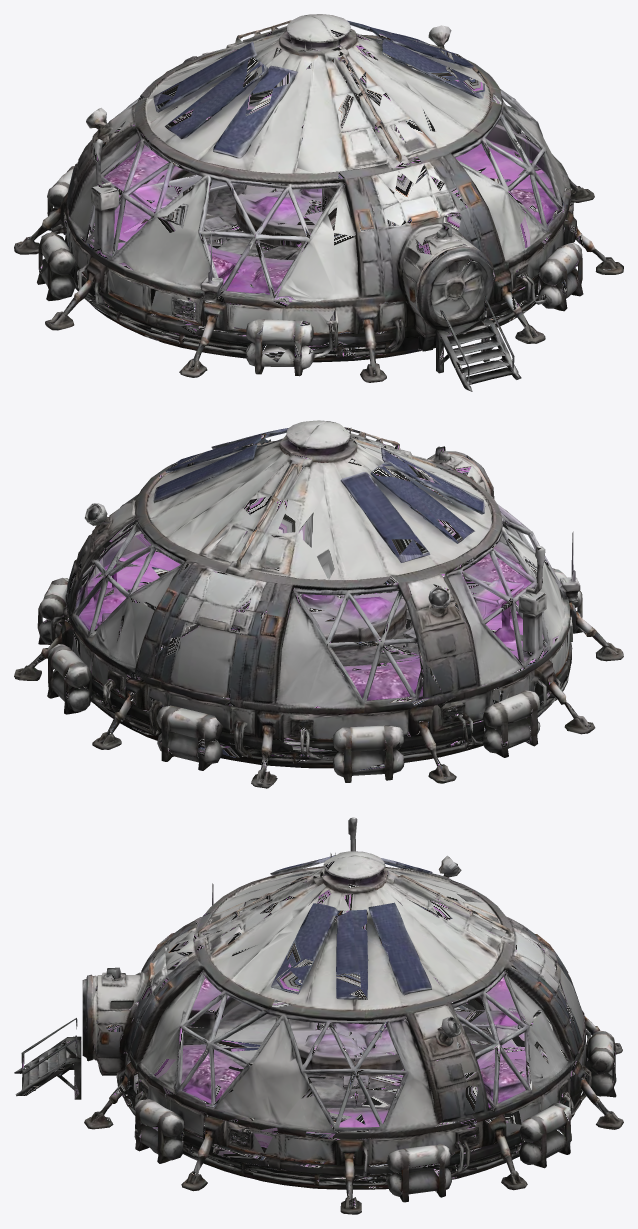
File: circle-building-1.glb
3 renders of one model, top to bottom at view 1: azimuth 30°, elevation 25°; view 2: azimuth 150°, elevation 25°; view 3: azimuth 270°, elevation 25°, orthographic. The views are drawn at different scales.
Visible parts, largest first — view 1: tripo_node_da8d61cd-8e81-4579-a2f0-7f17f393498a; view 2: tripo_node_da8d61cd-8e81-4579-a2f0-7f17f393498a; view 3: tripo_node_da8d61cd-8e81-4579-a2f0-7f17f393498a.
Boxes of the visible parts, left/top/right/bottom form: tripo_node_da8d61cd-8e81-4579-a2f0-7f17f393498a: left=14, top=14, right=623, bottom=391; tripo_node_da8d61cd-8e81-4579-a2f0-7f17f393498a: left=14, top=420, right=623, bottom=788; tripo_node_da8d61cd-8e81-4579-a2f0-7f17f393498a: left=14, top=817, right=623, bottom=1214.
Bounding box in the file's own units: 0.9714 × 0.4146 × 0.9816.
1 material, 1 textured.
